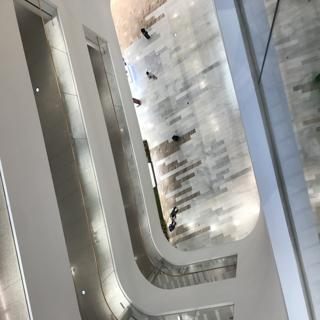person: (143, 60, 160, 92), (132, 24, 159, 42)
